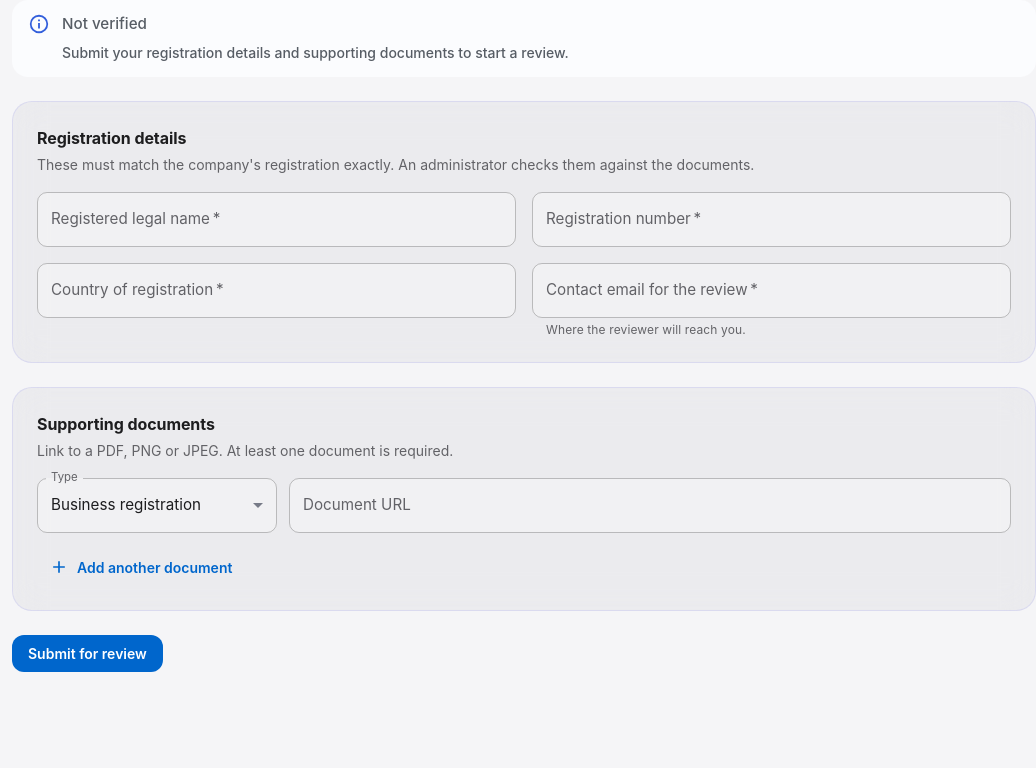
Test: CompanyVerification › refuses a submission whose registration details do not hold up
Expected: the text "Not verified" is shown, [62,14,147,33]
Type "N" into the field labelled "Registered legal name *". click: (276,219)
box: [37,192,516,247]
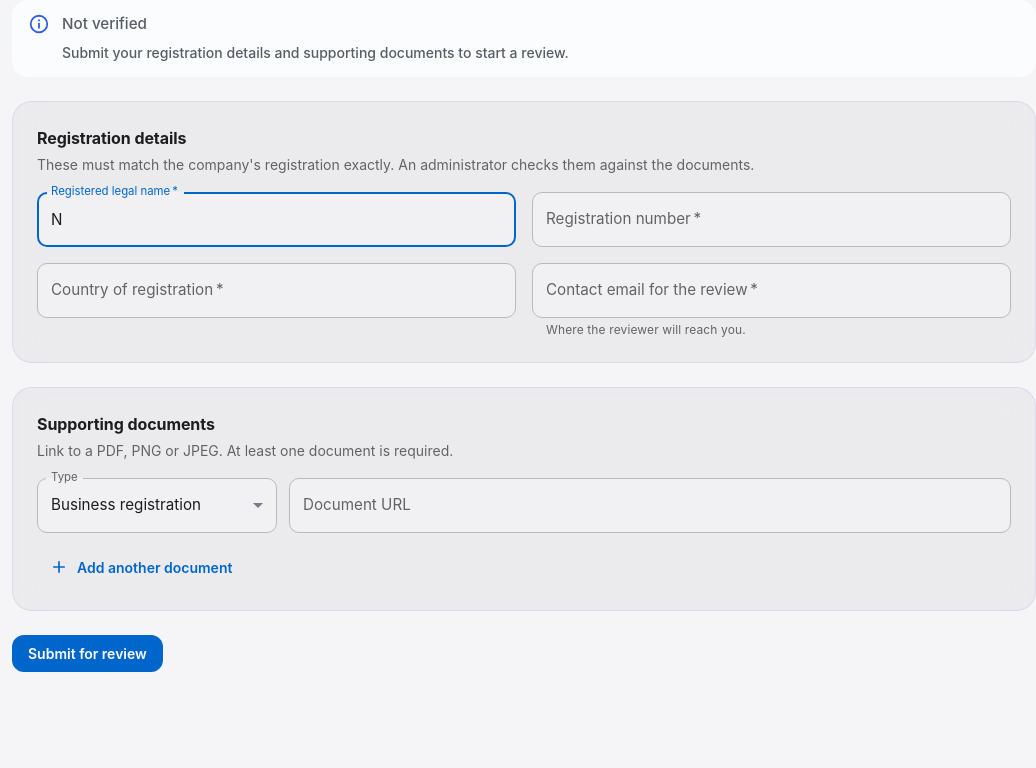
Type "FZE-119284" into the field labelled "Registration number *". click: (772,219)
box: [532,192,1011,247]
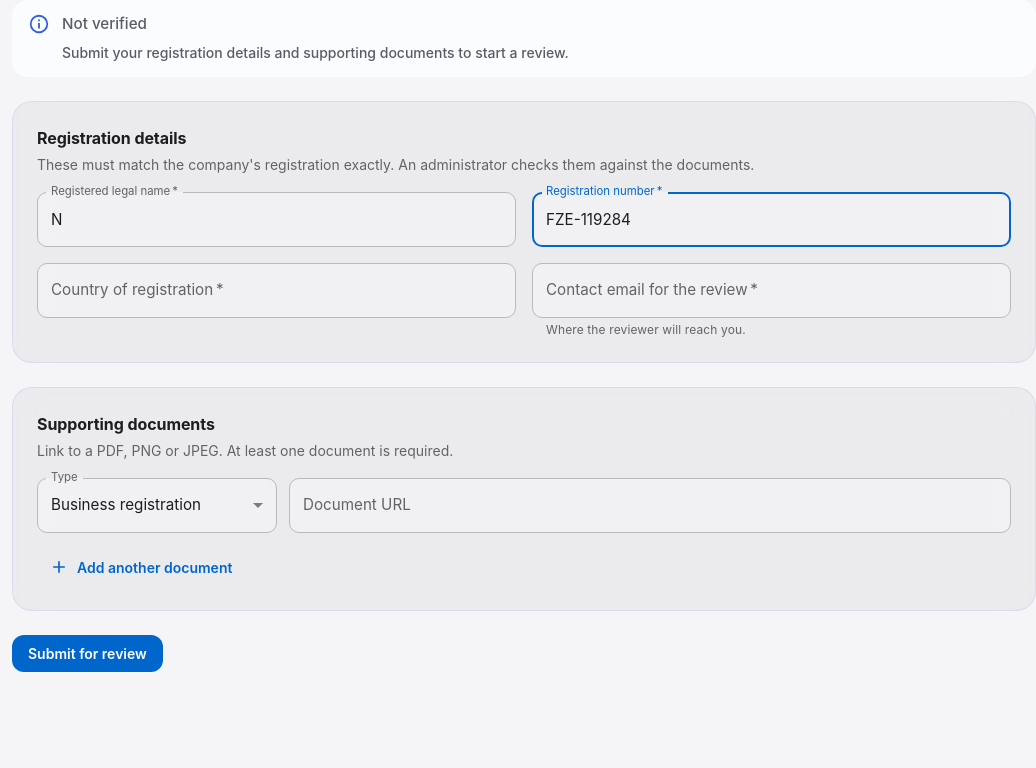
Type "United Arab Emirates" into the field labelled "Country of registration *". click: (276,290)
box: [37,263,516,318]
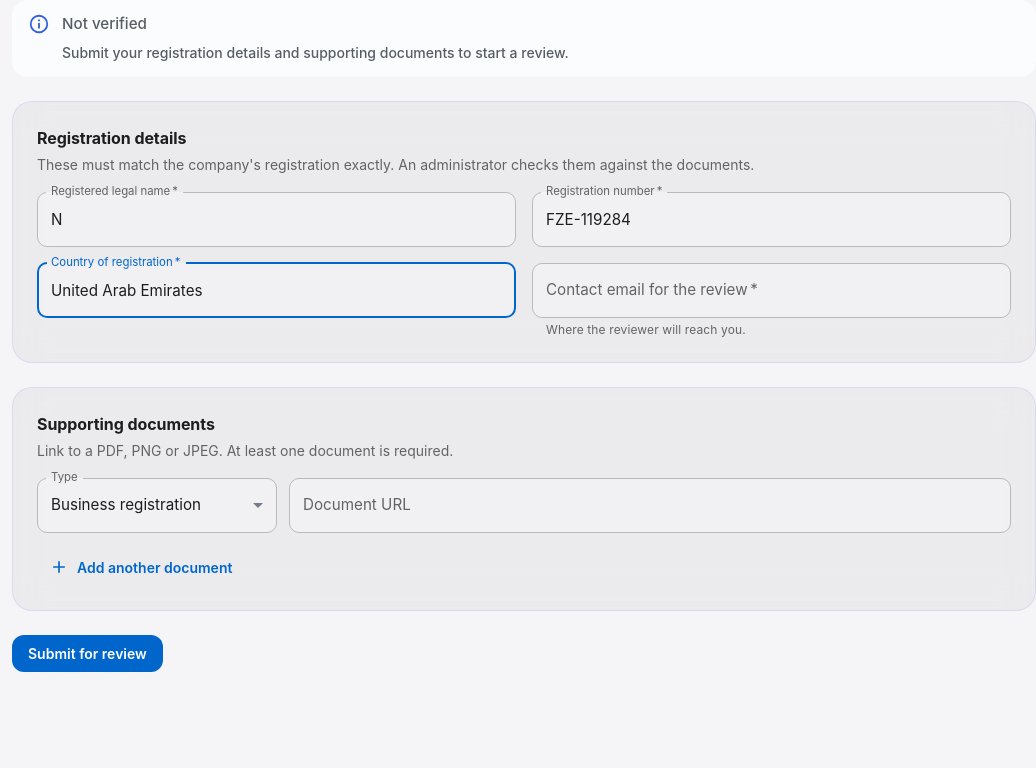
Type "legal@northwind.example" into the field labelled "Contact email for the review *". click: (772,290)
box: [532,263,1011,318]
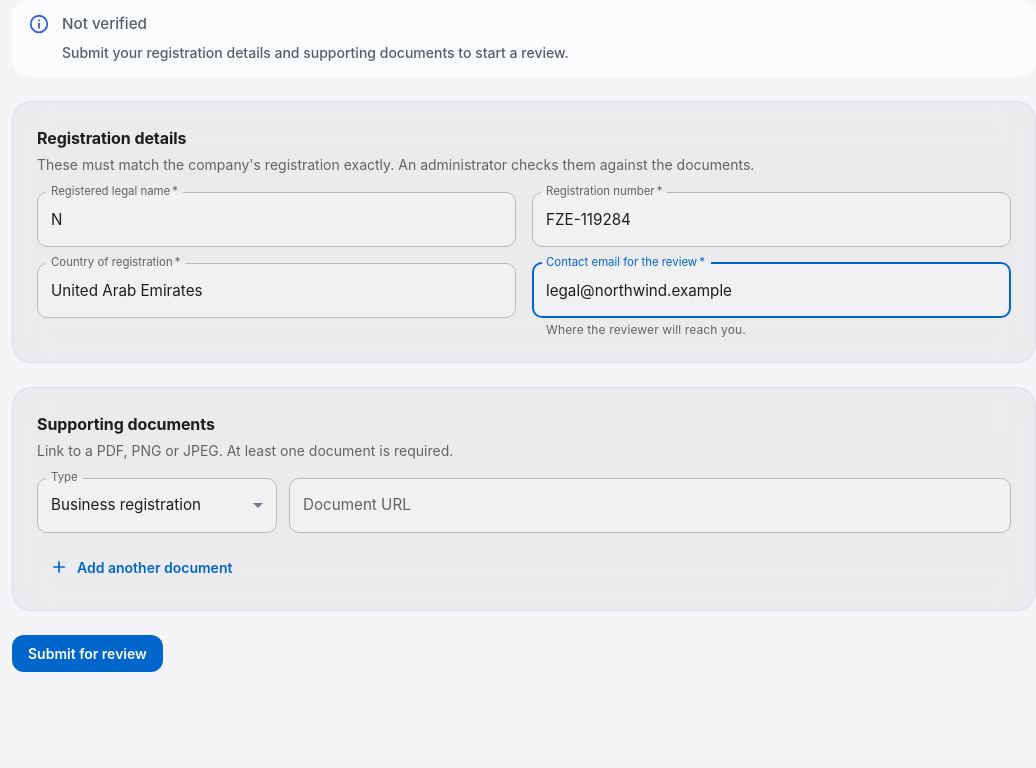
Type "https://northwind.example/docs/registration.pdf" into the field labelled "Document URL". click: (650,505)
box: [289,478,1011,533]
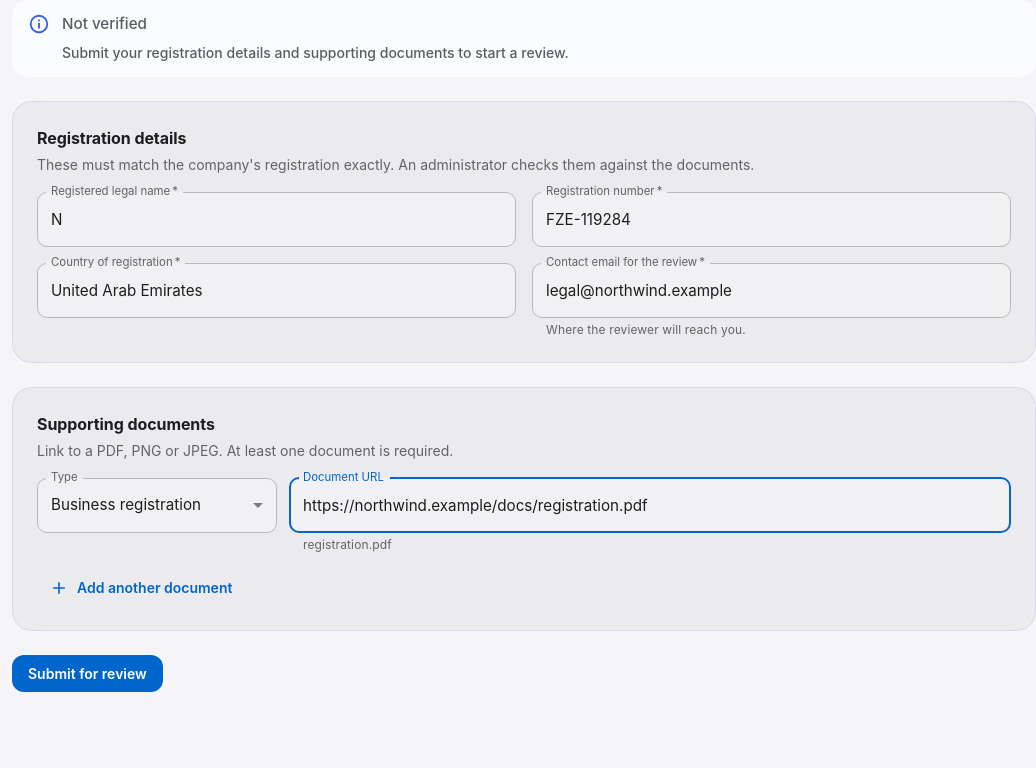
Click the button "Submit for review". click: (87,674)
box: [12,655,163,692]
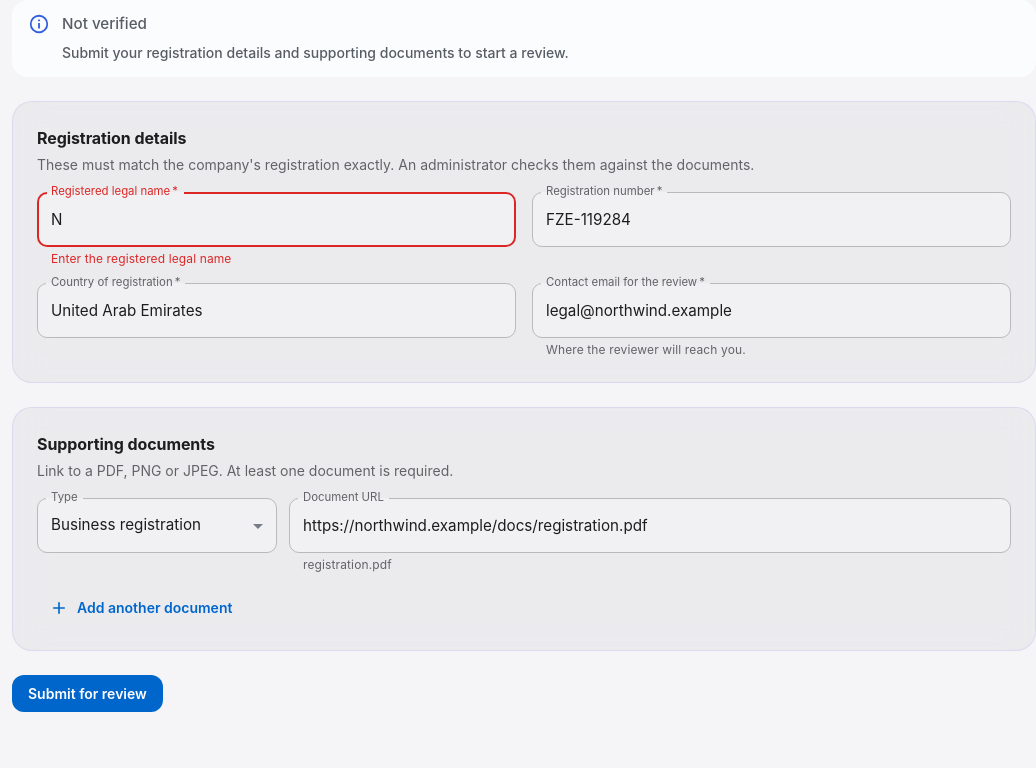
Now the text "Enter the registered legal name" is shown, box [51,251,232,266]
